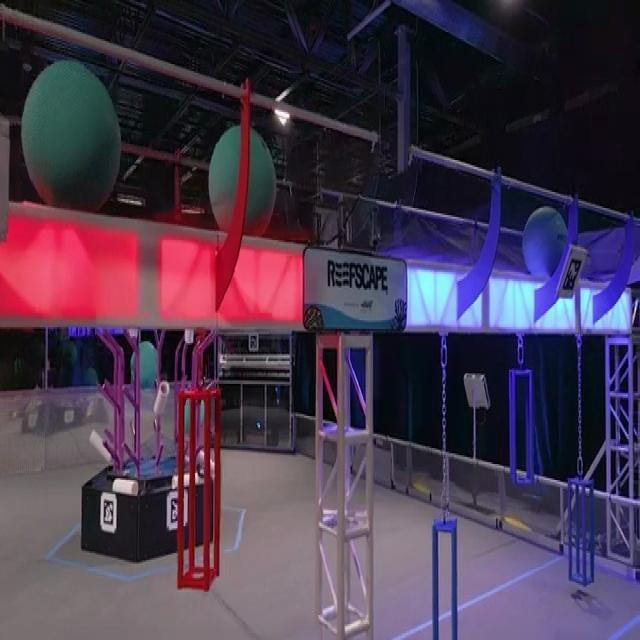Algae: (20, 57, 121, 211), (208, 122, 276, 238), (522, 207, 568, 279)
